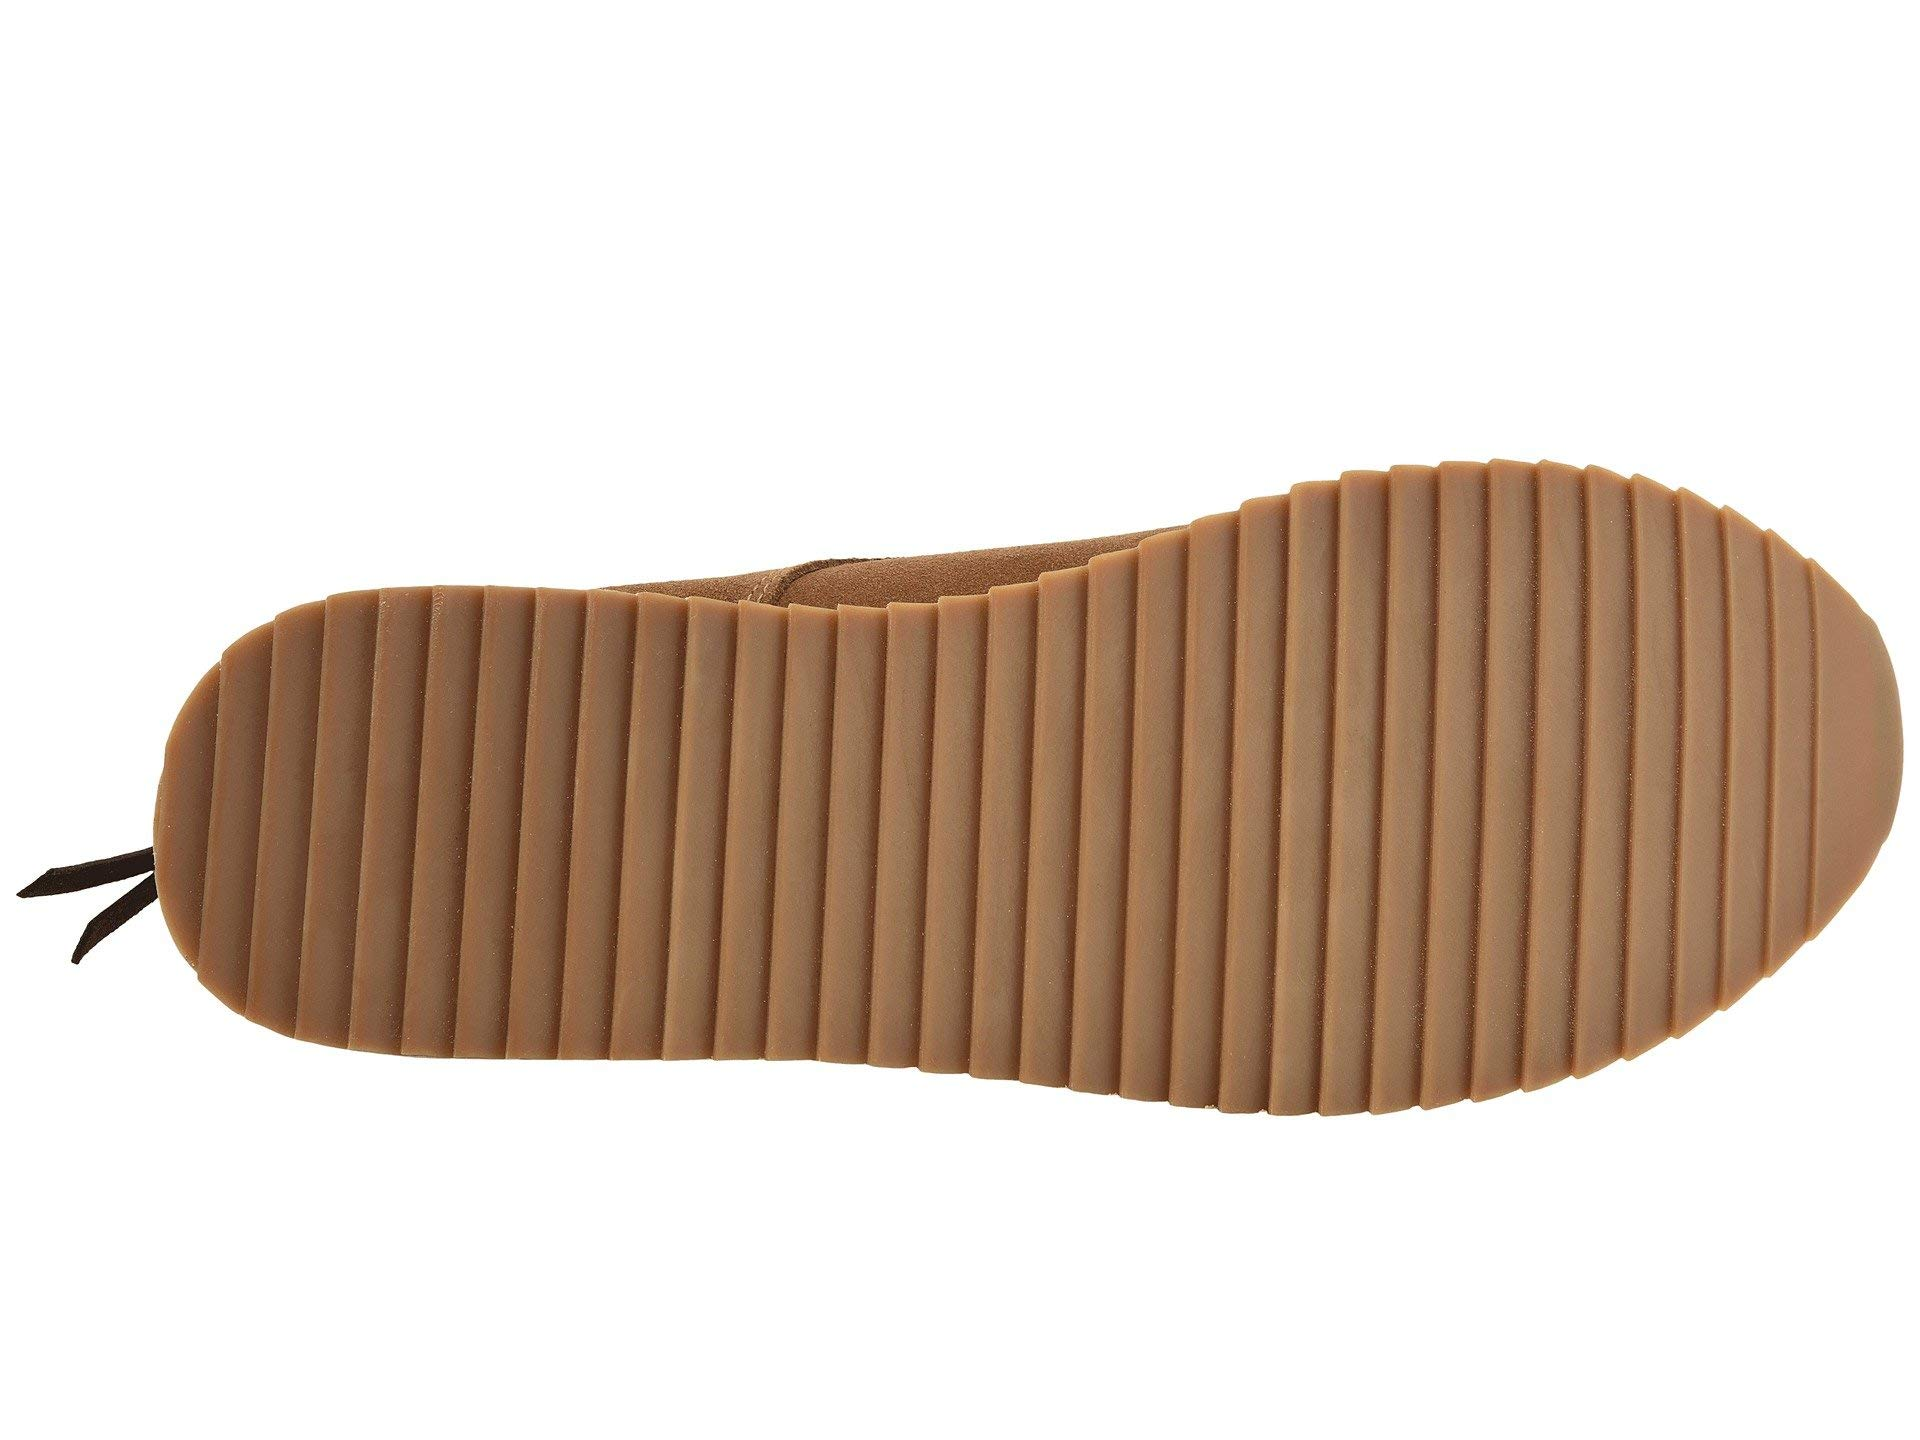line: (952, 649, 1379, 1078), (423, 667, 786, 961)
